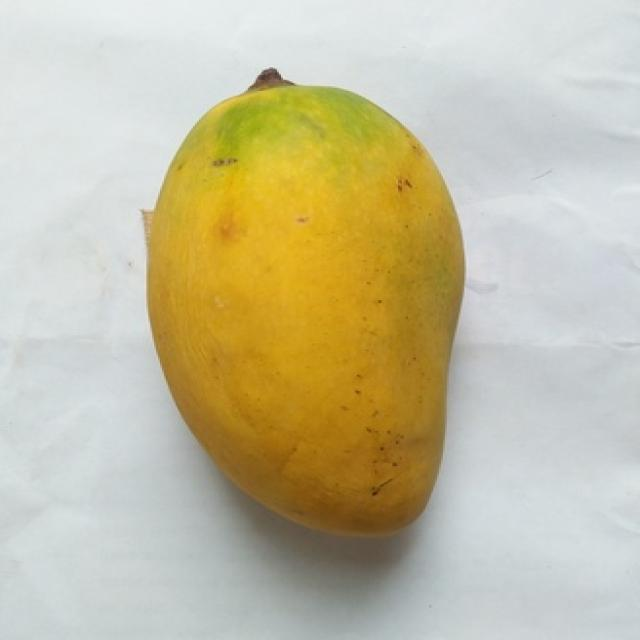Mango: (146, 72, 462, 531)
